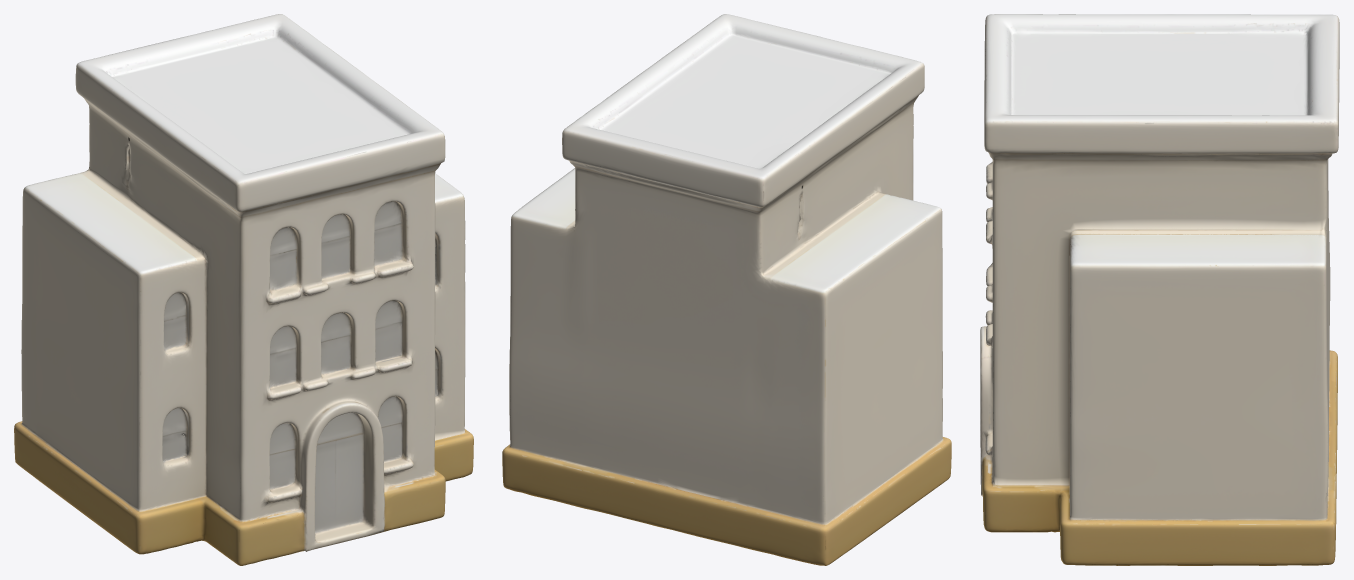
The model's file is Casa_Alcaldia_02.fbx.
The picture shows the model from 3 angles, left to right: view 1: azimuth 30°, elevation 25°; view 2: azimuth 150°, elevation 25°; view 3: azimuth 270°, elevation 25°; orthographic projection. The views are drawn at different scales.
Visible parts, largest first — view 1: Retopo_model; view 2: Retopo_model; view 3: Retopo_model.
Part boxes in pixels (bbox=[...]): Retopo_model: bbox=[14, 14, 473, 565]; Retopo_model: bbox=[502, 14, 951, 565]; Retopo_model: bbox=[980, 14, 1339, 565].
Size of the model in its own units: 665 by 726 by 573.
1 material, 1 textured.
